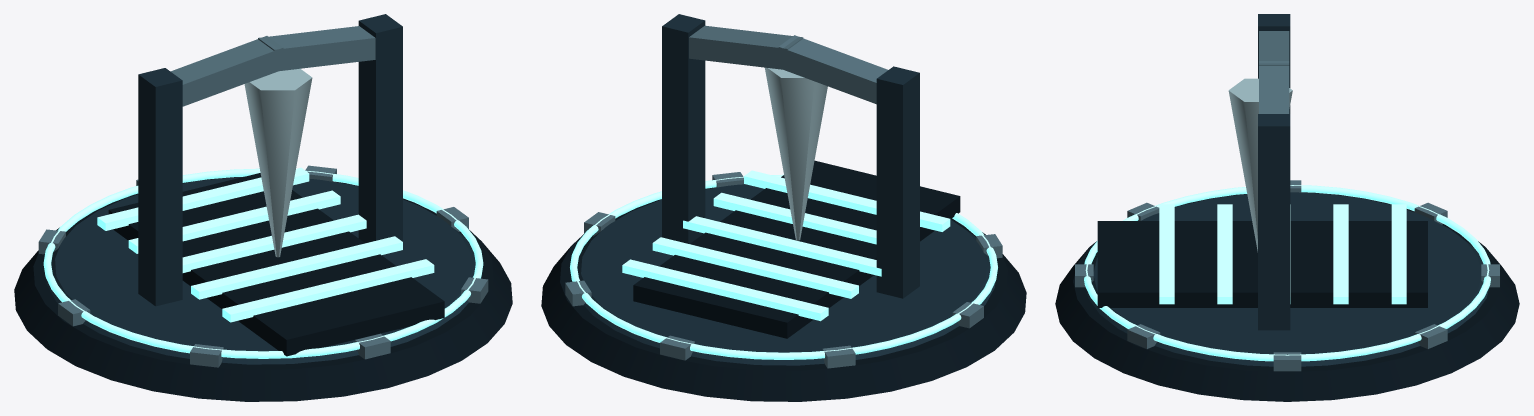
File: shipyard.glb
3 renders of one model, left to right at view 1: azimuth 30°, elevation 25°; view 2: azimuth 150°, elevation 25°; view 3: azimuth 270°, elevation 25°, orthographic. The views are drawn at different scales.
Parts seen in each view (by area): view 1: armored-foundation, upper-deck, gantry-pillar (×2), construction-trench, dock-light (×5), gantry-crown (×2), hull-under-construction, perimeter-light, buttress-3, buttress-2, buttress-4, buttress-1; view 2: upper-deck, armored-foundation, gantry-pillar (×2), construction-trench, dock-light (×5), gantry-crown (×2), hull-under-construction, perimeter-light, buttress-5, buttress-6, buttress-4, buttress-7; view 3: construction-trench, upper-deck, armored-foundation, gantry-pillar (×2), dock-light (×4), perimeter-light, hull-under-construction, gantry-crown (×2), buttress-0, buttress-1, buttress-7.
Part boxes in pixels (left/top/right/bottom): armored-foundation: left=14, top=176, right=512, bottom=401; upper-deck: left=46, top=177, right=481, bottom=364; gantry-pillar (×2): left=138, top=14, right=402, bottom=306; construction-trench: left=108, top=173, right=444, bottom=356; dock-light (×5): left=97, top=167, right=434, bottom=322; gantry-crown (×2): left=170, top=26, right=375, bottom=106; hull-under-construction: left=244, top=68, right=312, bottom=257; perimeter-light: left=43, top=168, right=483, bottom=358; buttress-3: left=190, top=344, right=223, bottom=367; buttress-2: left=355, top=333, right=390, bottom=359; buttress-4: left=58, top=299, right=90, bottom=326; buttress-1: left=461, top=277, right=488, bottom=303; upper-deck: left=571, top=184, right=995, bottom=365; armored-foundation: left=541, top=187, right=1026, bottom=401; gantry-pillar (×2): left=662, top=14, right=919, bottom=298; construction-trench: left=633, top=160, right=960, bottom=338; dock-light (×5): left=622, top=170, right=950, bottom=321; gantry-crown (×2): left=689, top=25, right=887, bottom=104; hull-under-construction: left=765, top=67, right=827, bottom=240; perimeter-light: left=570, top=174, right=997, bottom=359; buttress-5: left=822, top=345, right=855, bottom=368; buttress-6: left=660, top=335, right=694, bottom=360; buttress-4: left=952, top=302, right=983, bottom=328; buttress-7: left=565, top=280, right=591, bottom=306; construction-trench: left=1097, top=221, right=1427, bottom=307; upper-deck: left=1086, top=192, right=1488, bottom=366; armored-foundation: left=1055, top=192, right=1519, bottom=401; gantry-pillar (×2): left=1258, top=14, right=1290, bottom=330; dock-light (×4): left=1159, top=204, right=1406, bottom=304; perimeter-light: left=1084, top=185, right=1490, bottom=361; hull-under-construction: left=1228, top=78, right=1292, bottom=252; gantry-crown (×2): left=1259, top=31, right=1289, bottom=113; buttress-0: left=1273, top=352, right=1301, bottom=371; buttress-1: left=1127, top=324, right=1160, bottom=348; buttress-7: left=1414, top=324, right=1447, bottom=348.
Size of the model in its own units: 10.4 by 5.95 by 10.4.
